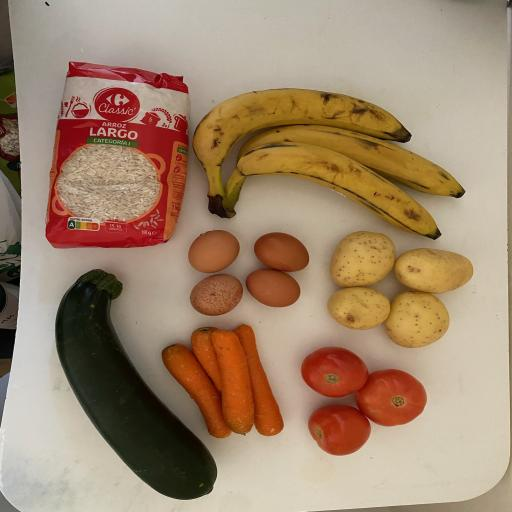banana: (165, 64, 436, 239), (199, 110, 500, 225), (204, 131, 459, 252)
carrot: (147, 329, 256, 449), (211, 312, 296, 444), (196, 312, 275, 454)
courgette: (26, 249, 247, 512)
egg: (179, 264, 253, 326), (243, 224, 323, 280), (233, 262, 309, 319), (175, 225, 249, 279)
potato: (315, 219, 408, 301), (380, 235, 481, 310), (378, 275, 452, 357), (307, 278, 405, 338)
rice: (25, 46, 218, 266)
tomato: (288, 381, 400, 476), (288, 326, 386, 417), (332, 360, 437, 436)
